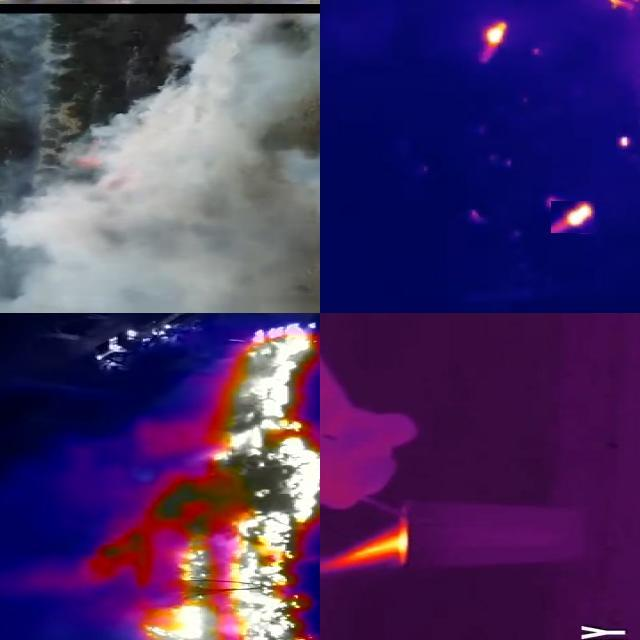fire: (140, 319, 321, 640), (321, 522, 413, 572), (553, 201, 599, 233), (479, 19, 509, 61)
